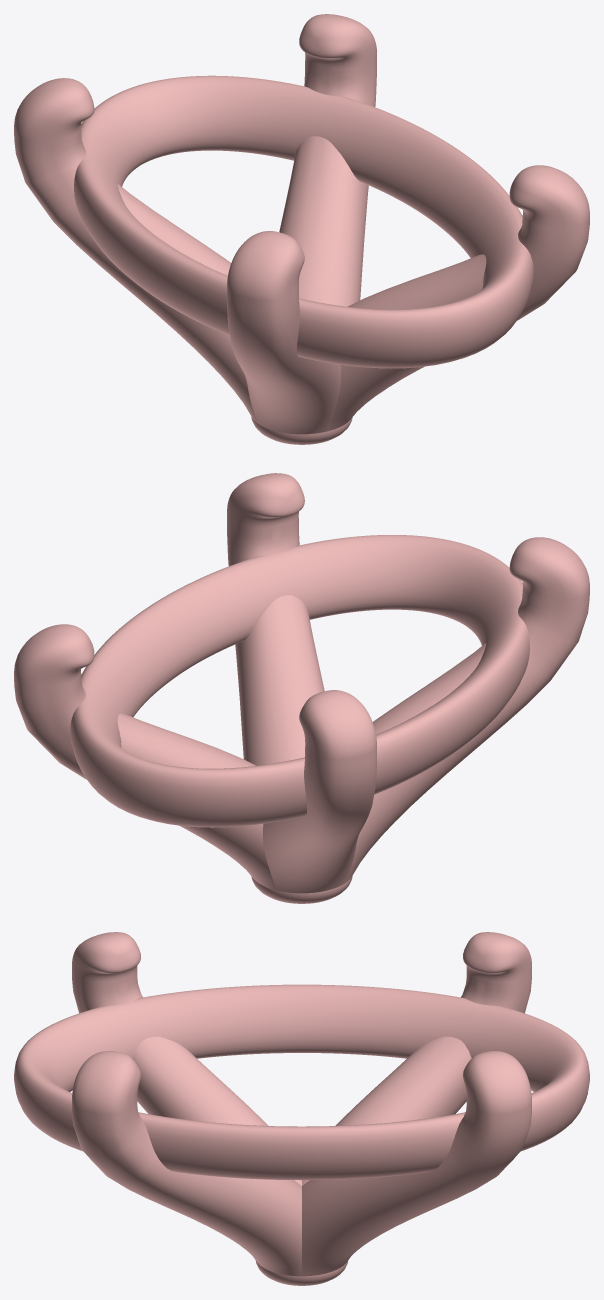
The model's file is OVAL.glb.
The picture shows the model from 3 angles, top to bottom: view 1: azimuth 30°, elevation 25°; view 2: azimuth 150°, elevation 25°; view 3: azimuth 270°, elevation 25°; orthographic projection. The views are drawn at different scales.
Parts seen in each view (by area): view 1: oval; view 2: oval; view 3: oval.
Boxes of the visible parts, box(x1,y1,x2,y2) form: oval: box(14, 14, 589, 444); oval: box(14, 473, 589, 903); oval: box(14, 932, 589, 1285).
Bounding box in the file's own units: 5.21 × 4.3 × 8.01.
